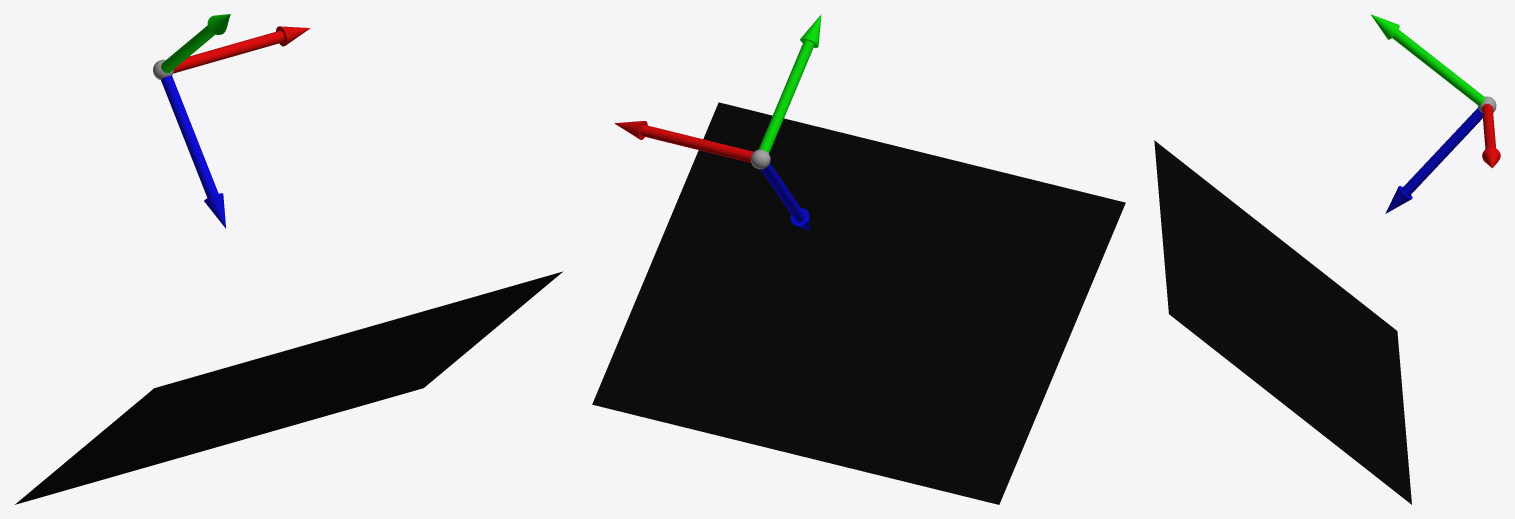
3 renders of one model, left to right at view 1: azimuth 30°, elevation 25°; view 2: azimuth 150°, elevation 25°; view 3: azimuth 270°, elevation 25°, orthographic. The views are drawn at different scales.
Size of the model in its own units: 0.3498 by 0.3595 by 0.2789.
